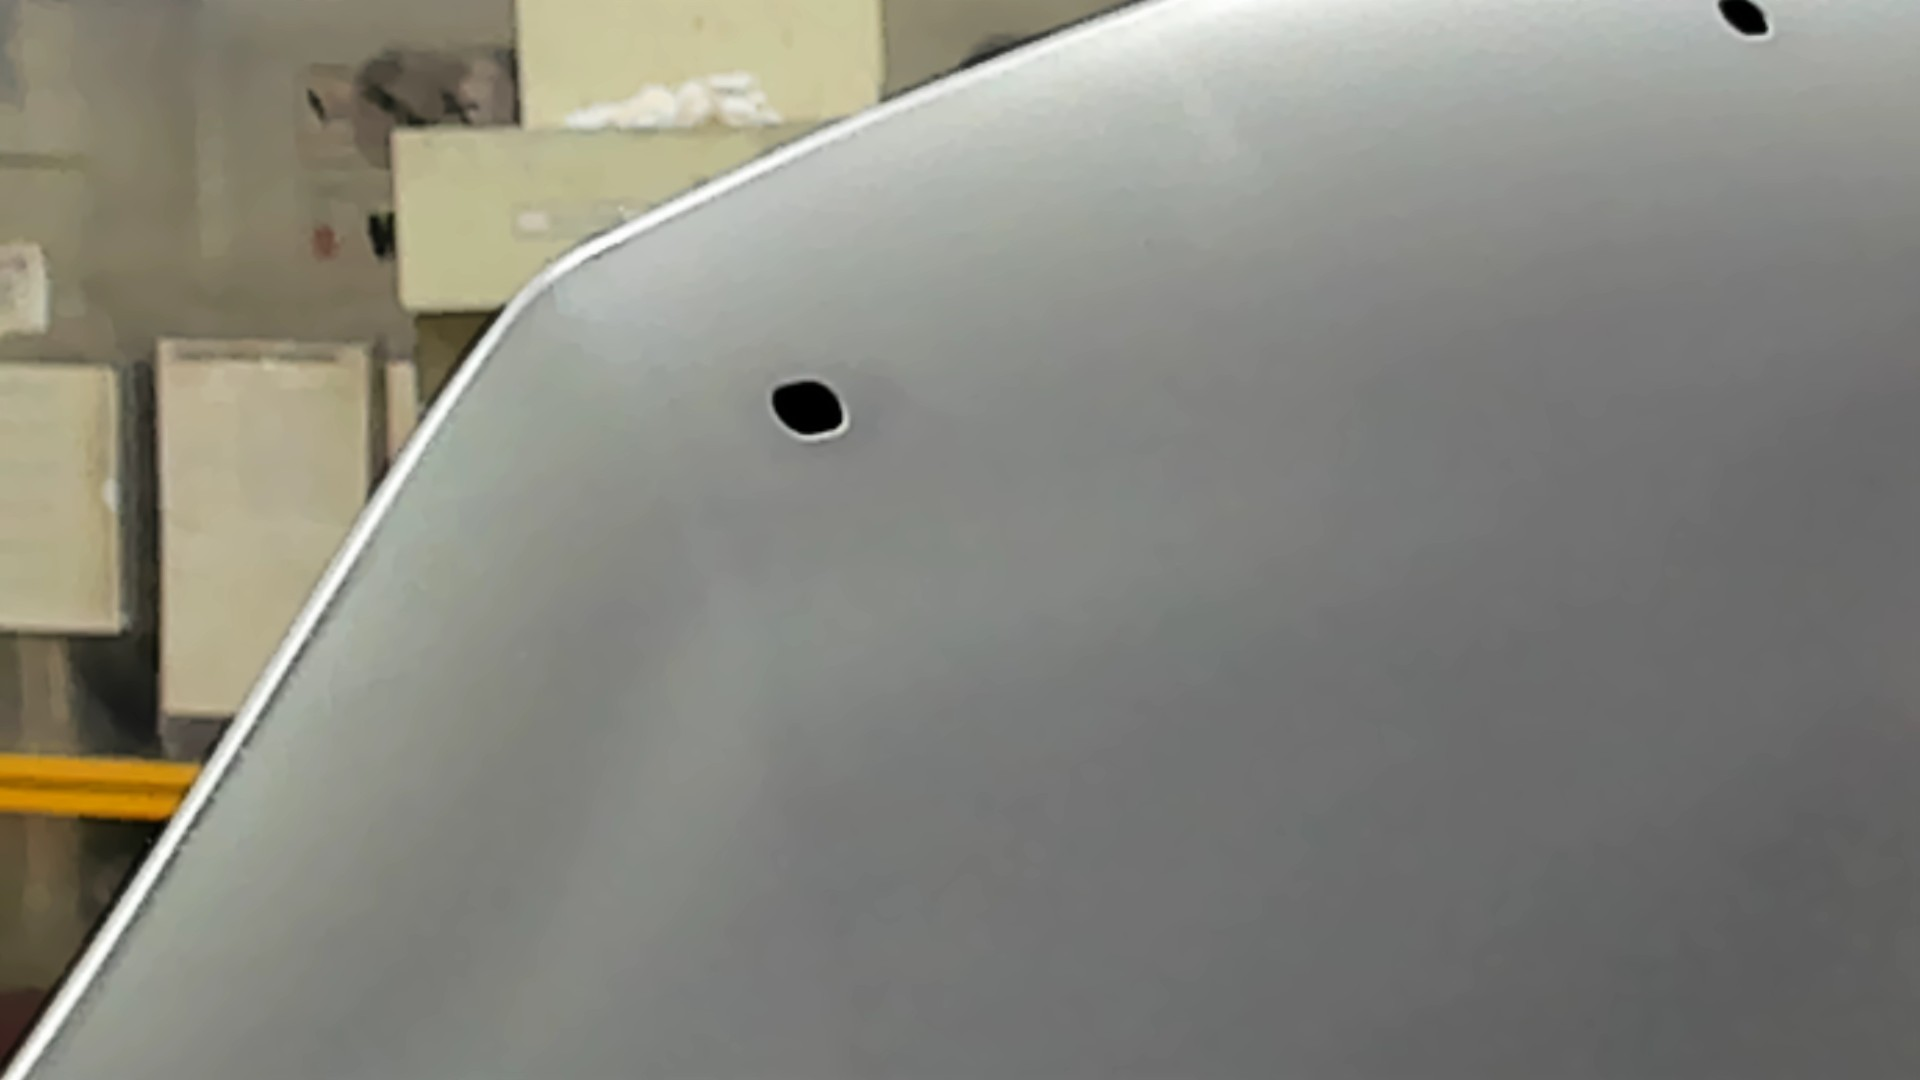amorfo: (764, 377, 862, 446), (1709, 1, 1780, 50)
capo: (963, 105, 1920, 1080)
